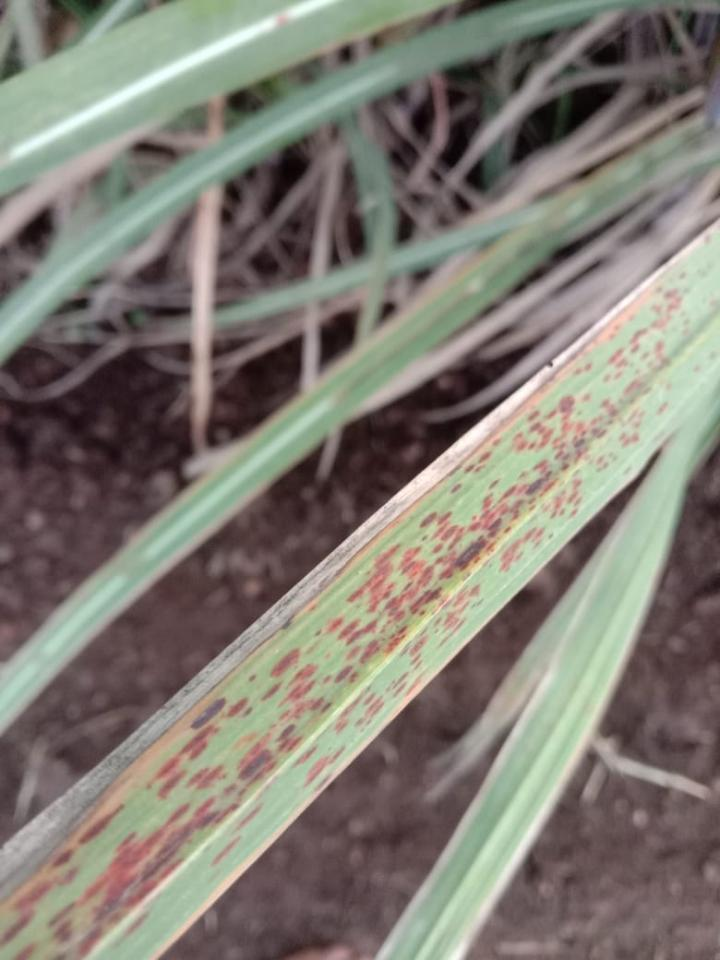Rust: (0, 264, 693, 957)
